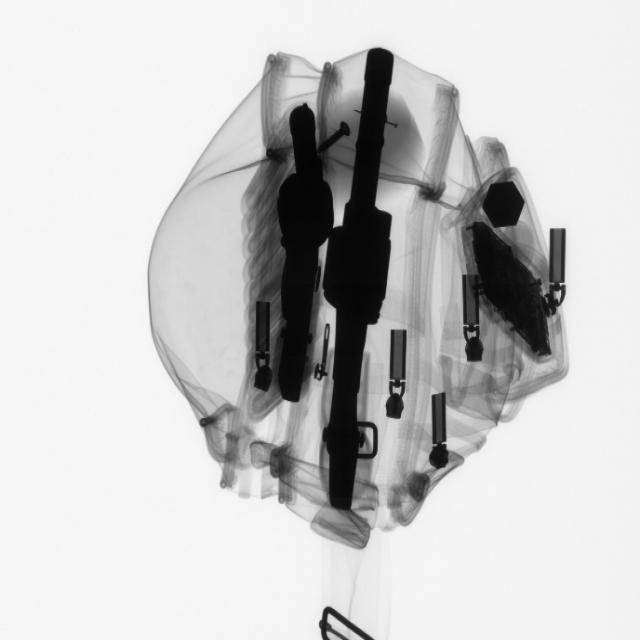GUN: (317, 63, 403, 462), (267, 72, 340, 433)
